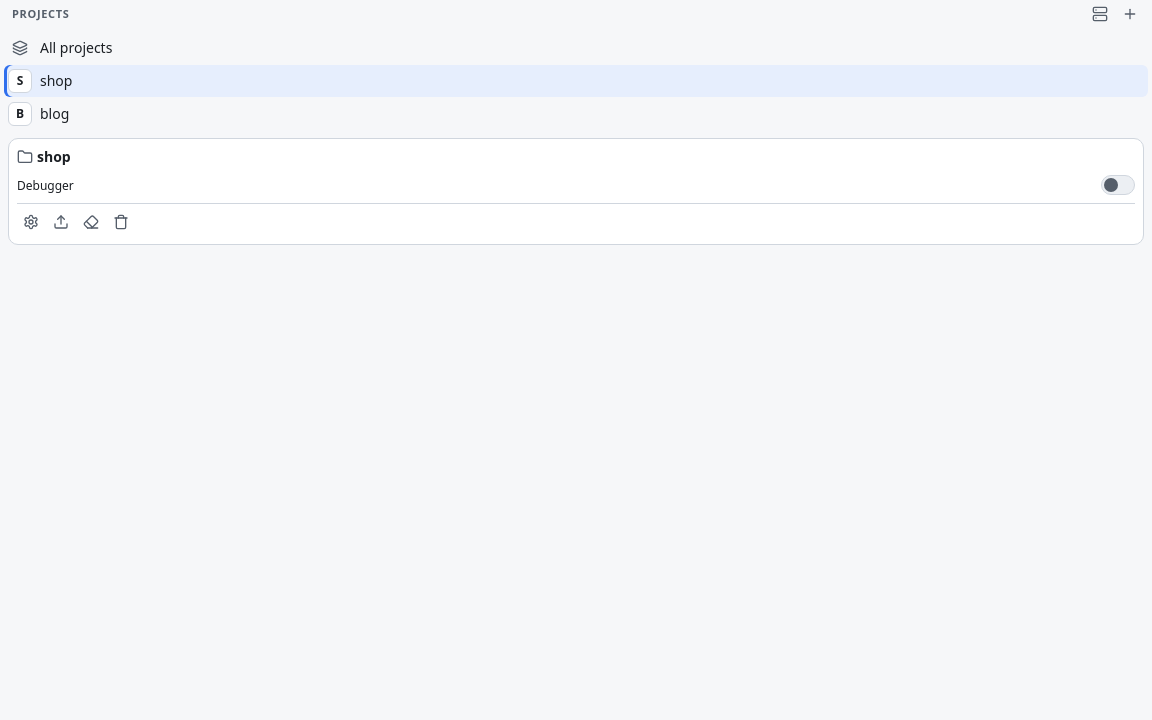
it: ProjectsPanel › removes the selected project after confirmation and resets the filter
Click the button named "Remove project": [121, 222] box top-left (107, 208), bottom-right (135, 236)
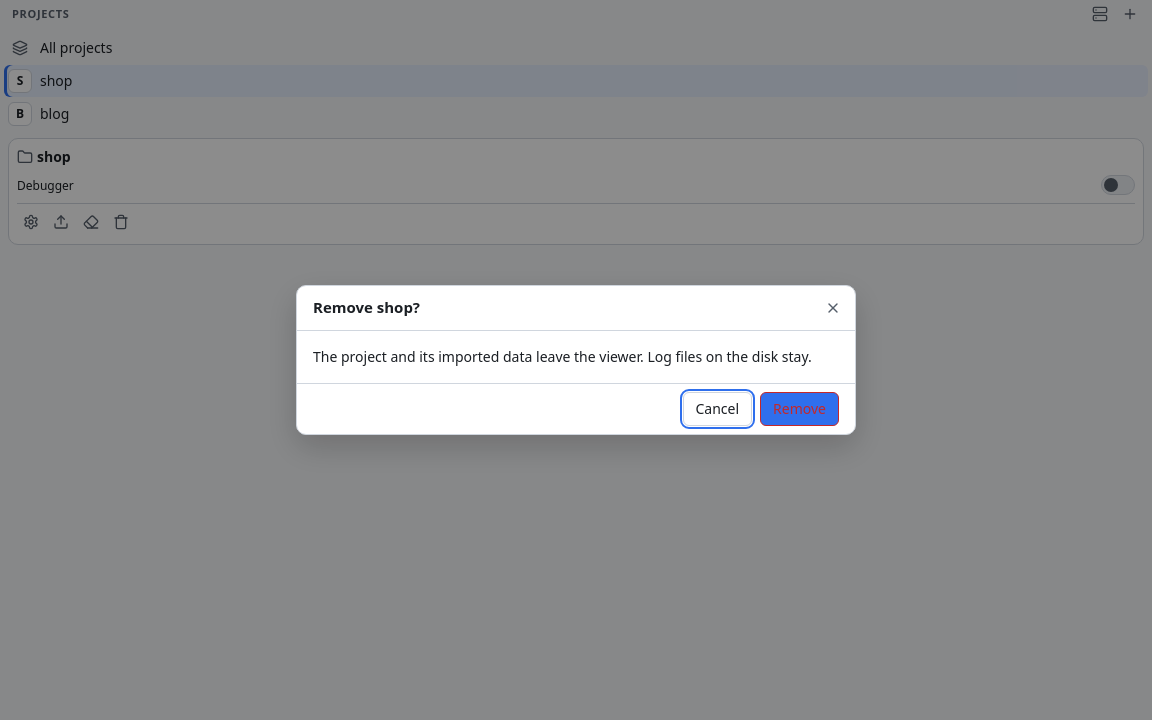
Click the button "Remove": [800, 409] box top-left (760, 392), bottom-right (839, 426)
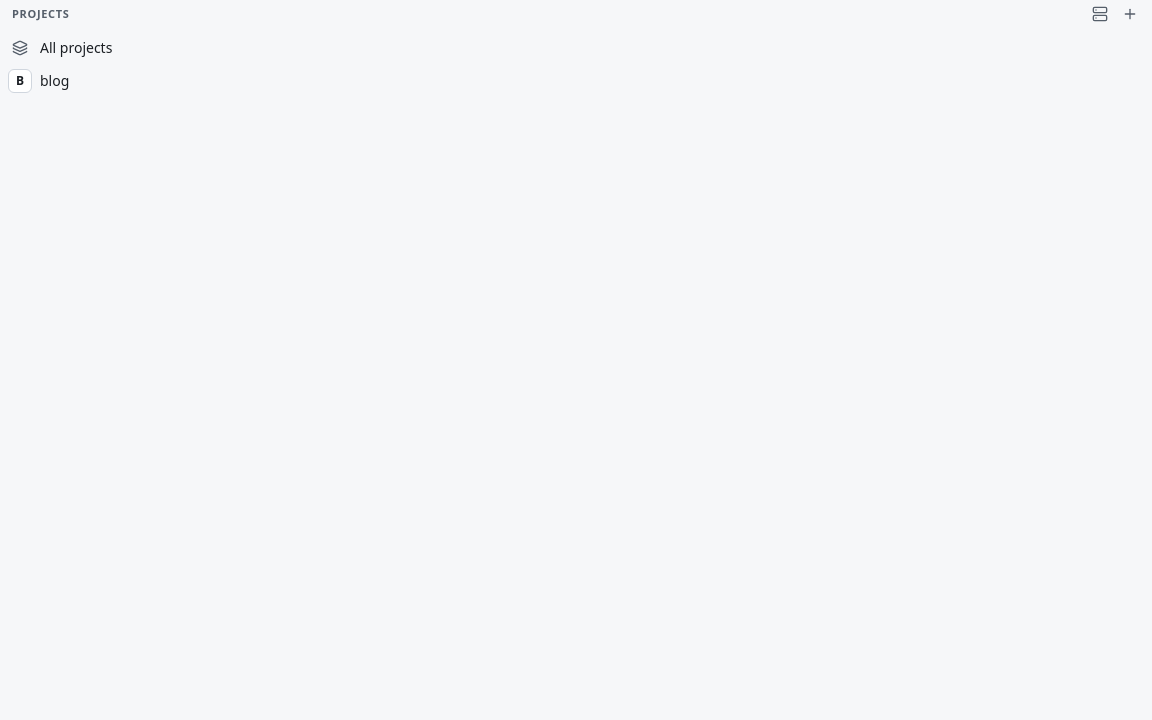
Expected: the button "shop" is gone
